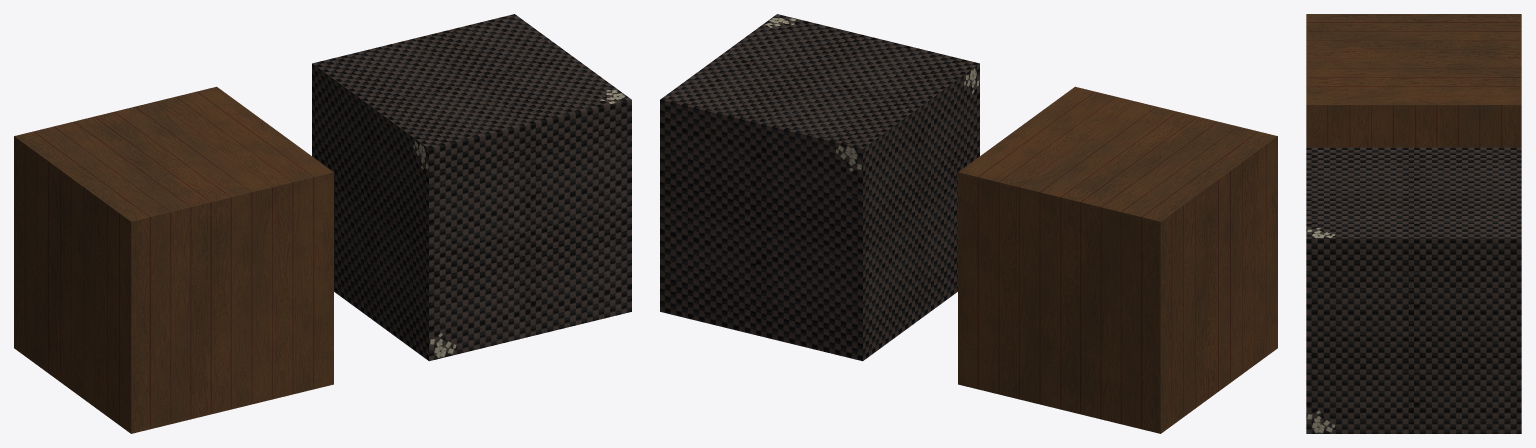
File: Texture_Blocks.fbx
The picture shows the model from 3 angles, left to right: view 1: azimuth 30°, elevation 25°; view 2: azimuth 150°, elevation 25°; view 3: azimuth 270°, elevation 25°; orthographic projection. The views are drawn at different scales.
Visible parts, largest first — view 1: Test_2.001, Test_2; view 2: Test_2.001, Test_2; view 3: Test_2, Test_2.001.
Boxes of the visible parts, x1,y1,x2,y2 form: Test_2.001: [14, 86, 333, 433]; Test_2: [312, 14, 631, 361]; Test_2.001: [958, 86, 1277, 433]; Test_2: [660, 14, 979, 361]; Test_2: [1306, 147, 1521, 433]; Test_2.001: [1306, 14, 1521, 147].
Bounding box in the file's own units: 494 × 200 × 200.
